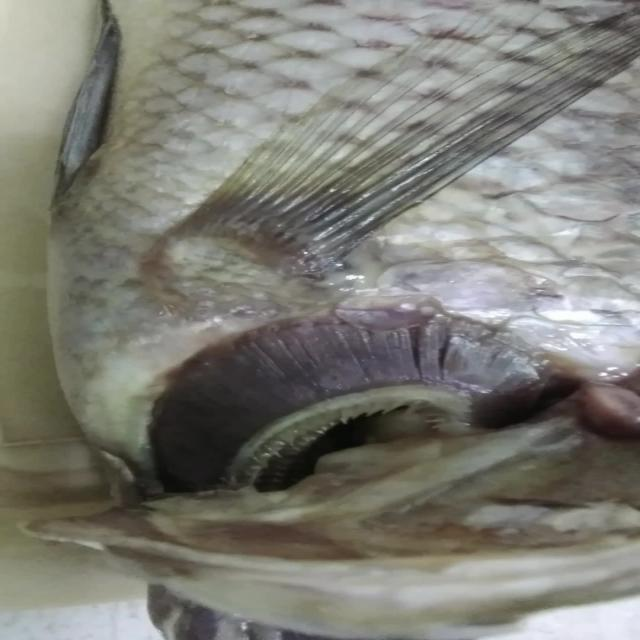Non-Fresh: (105, 288, 582, 512)
